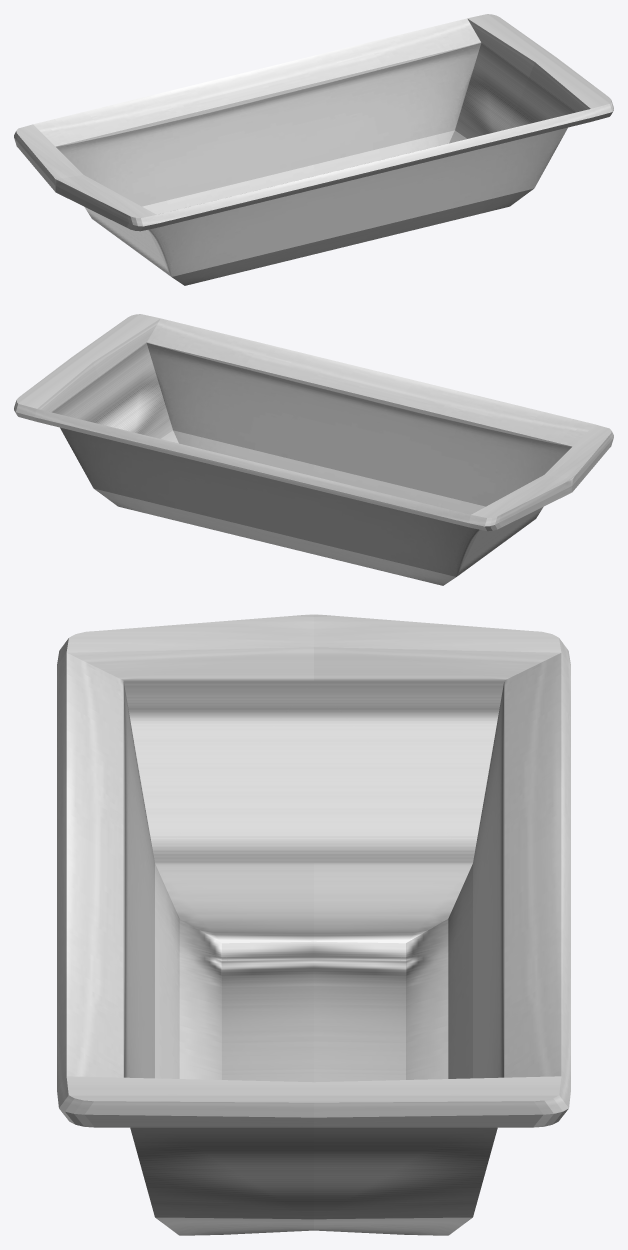
The model's file is Bath.fbx.
3 renders of one model, top to bottom at view 1: azimuth 30°, elevation 25°; view 2: azimuth 150°, elevation 25°; view 3: azimuth 270°, elevation 25°, orthographic. The views are drawn at different scales.
Visible parts, largest first — view 1: Plane; view 2: Plane; view 3: Plane.
Boxes of the visible parts, box(x1,y1,x2,y2) form: Plane: box(14, 14, 613, 285); Plane: box(14, 314, 613, 585); Plane: box(57, 614, 570, 1235).
Bounding box in the file's own units: 2272 × 482 × 1007.
